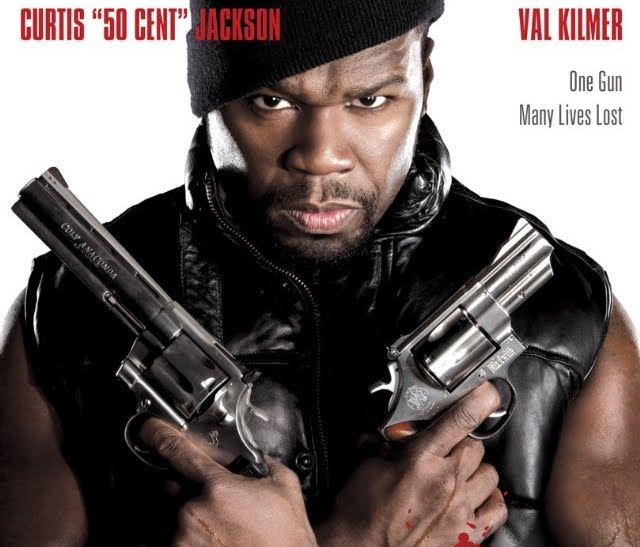gun: (7, 162, 278, 490), (368, 215, 558, 450)
